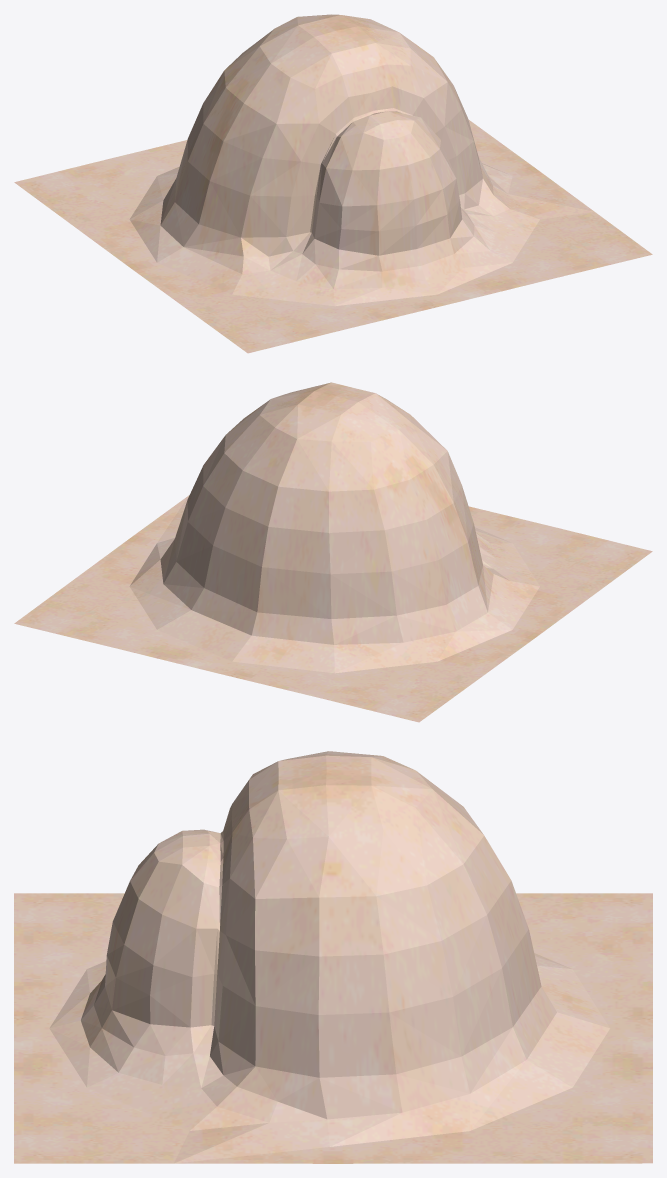
Rendered from sandbombbasemushroom.dae.
The picture shows the model from 3 angles, top to bottom: view 1: azimuth 30°, elevation 25°; view 2: azimuth 150°, elevation 25°; view 3: azimuth 270°, elevation 25°; orthographic projection. The views are drawn at different scales.
Visible parts, largest first — view 1: m0; view 2: m0; view 3: m0.
Part boxes in pixels (x1,y1,x2,y2): m0: [14, 14, 652, 353]; m0: [14, 382, 652, 722]; m0: [14, 751, 652, 1163].
Size of the model in its own units: 1504 by 670 by 1500.
1 material, 1 textured.
